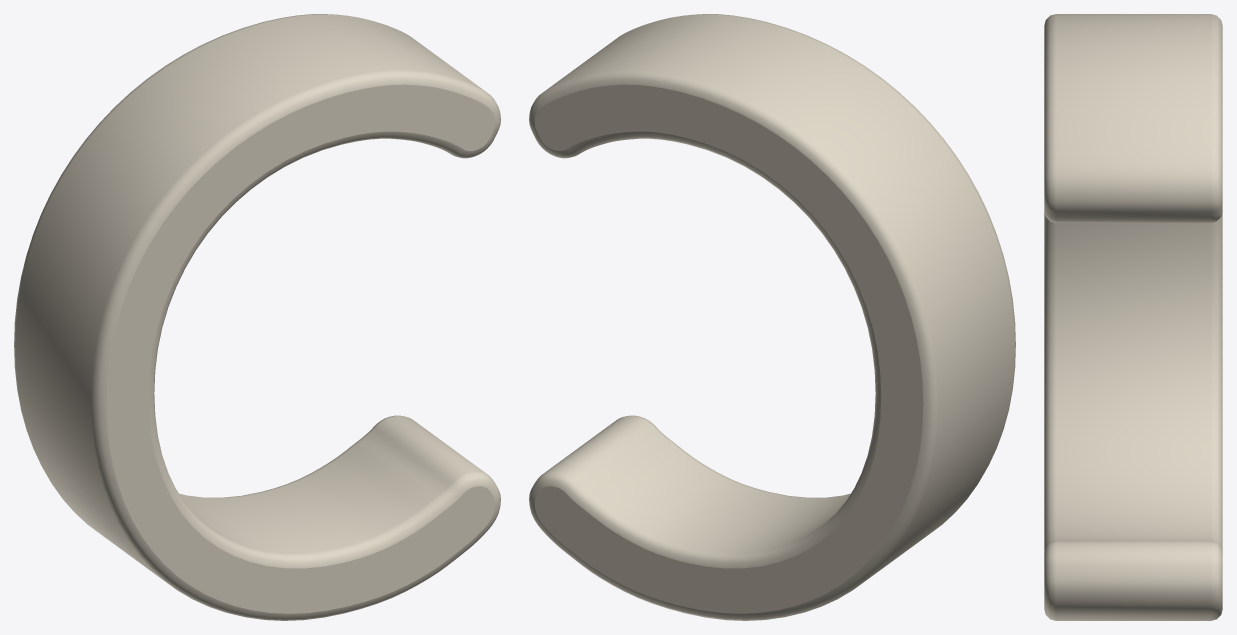
The model's file is letter_c.glb.
3 views of the same model, side by side, from view 1: azimuth 30°, elevation 25°; view 2: azimuth 150°, elevation 25°; view 3: azimuth 270°, elevation 25° (orthographic). The views are drawn at different scales.
Parts seen in each view (by area): view 1: color_body; view 2: color_body; view 3: color_body.
Part boxes in pixels (x1=…): color_body: x1=14, y1=14, x2=500, y2=620; color_body: x1=529, y1=14, x2=1015, y2=620; color_body: x1=1044, y1=14, x2=1222, y2=620.
Bounding box in the file's own units: 0.6564 × 0.8216 × 0.242.
